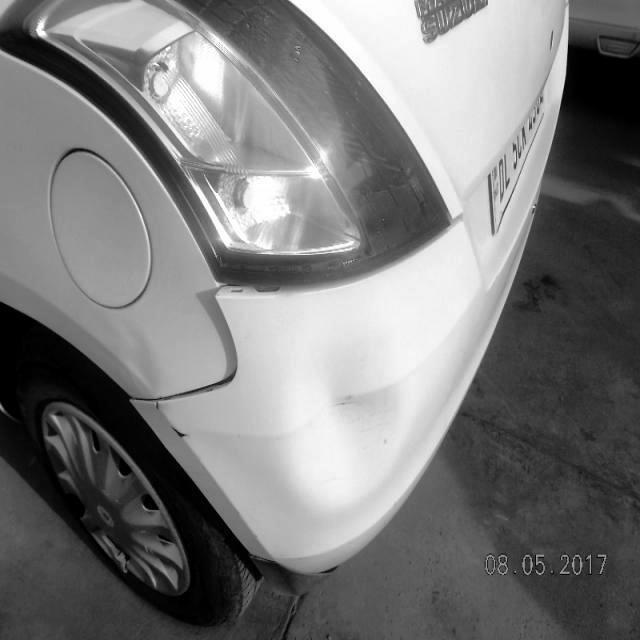rear-bumper-dent: (90, 262, 508, 620)
